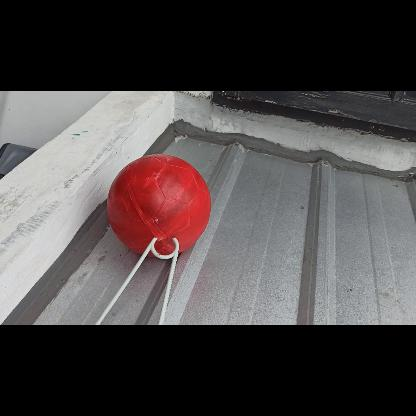red_ball: (107, 154, 211, 258)
